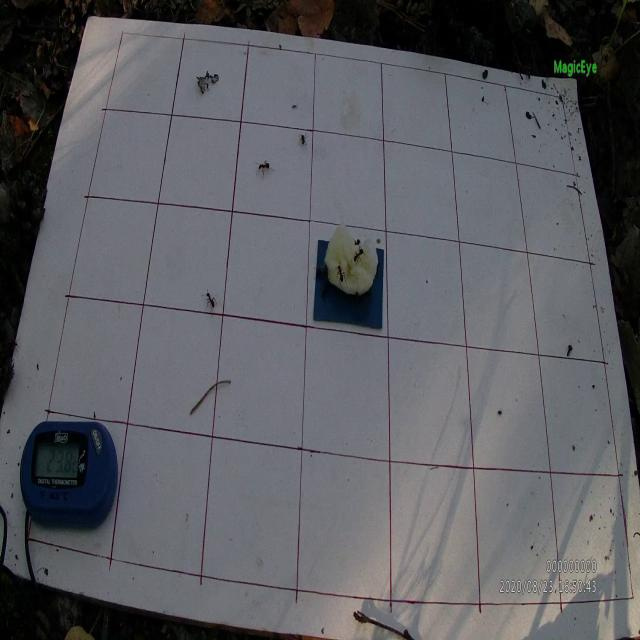Ant: (202, 289, 217, 317), (256, 159, 275, 179), (335, 264, 348, 290), (352, 246, 367, 267), (298, 132, 309, 151)
